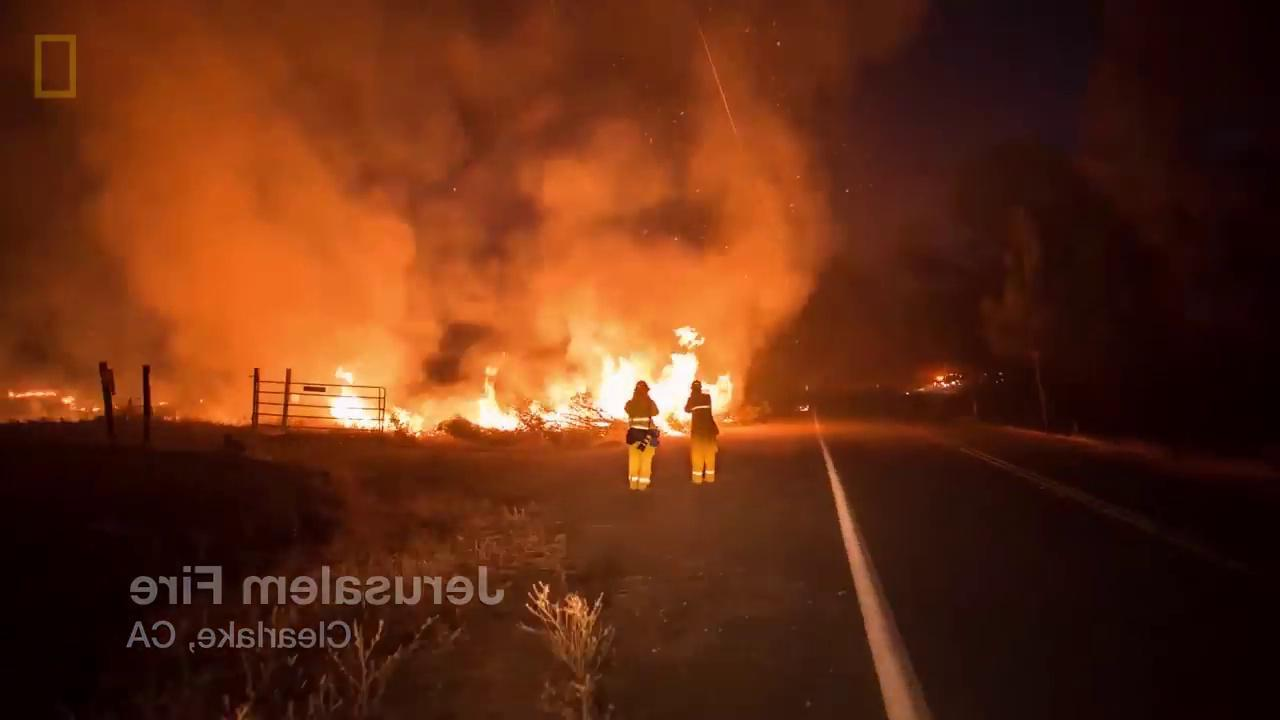Fire: (475, 333, 727, 436), (325, 369, 423, 434), (9, 388, 96, 411), (932, 371, 967, 393)
